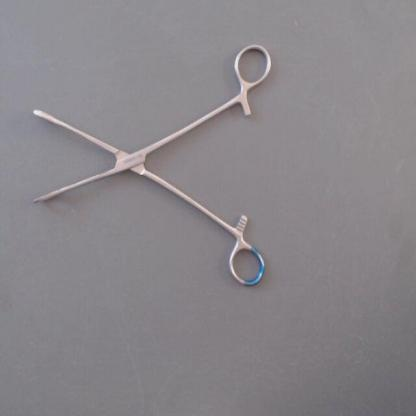Sponge Forceps: (25, 30, 276, 294)
